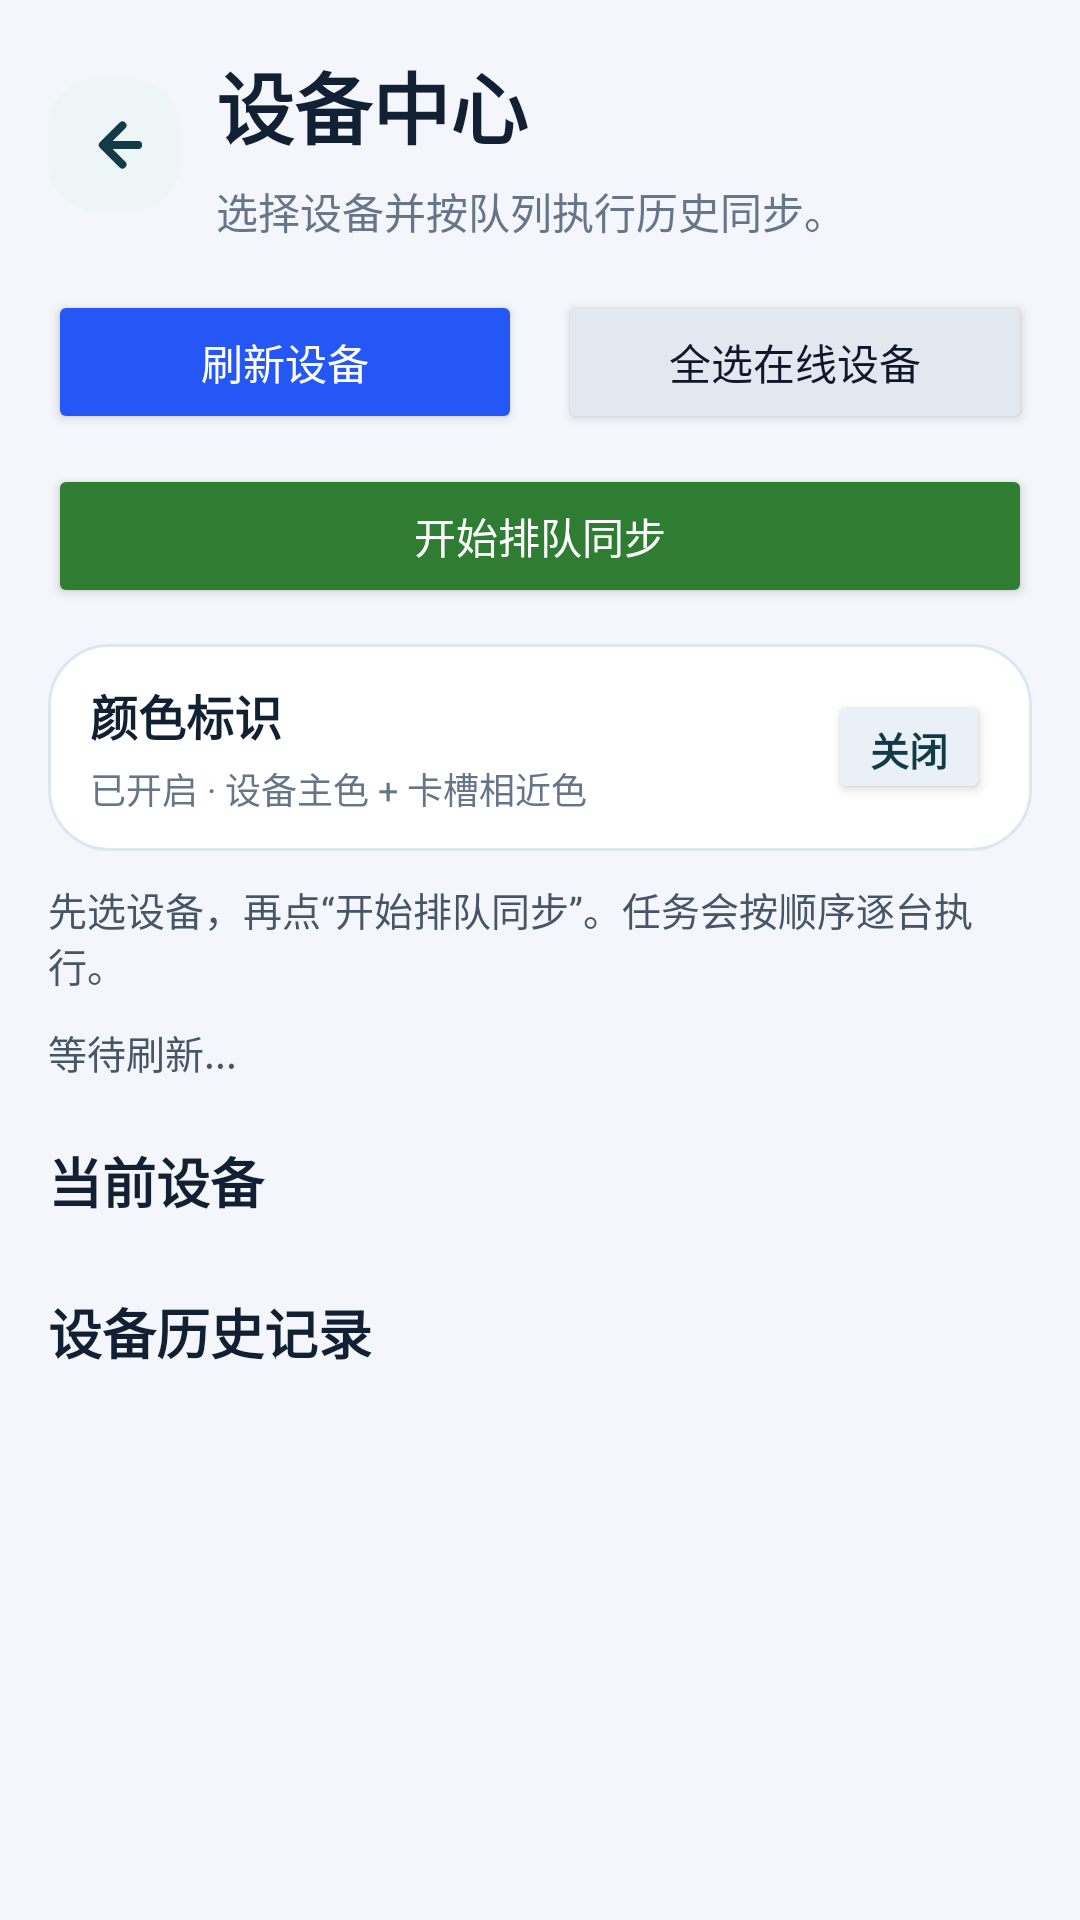

Named icons in this screenshot (1080px×1920px) and their bounding boxes, (x1, y1, x2, y2):
返回: (98, 121, 142, 169)
